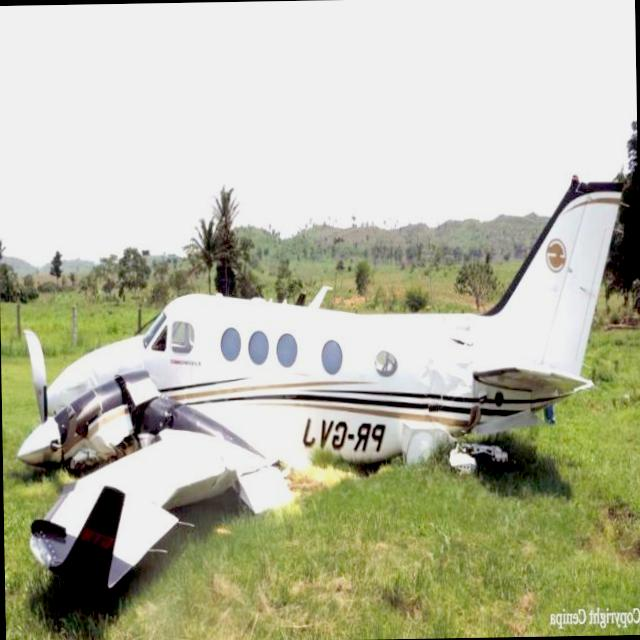dent: (414, 352, 470, 409)
